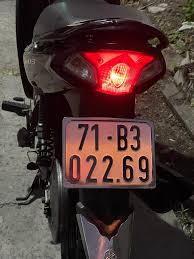Bien-so: (63, 119, 157, 189)
